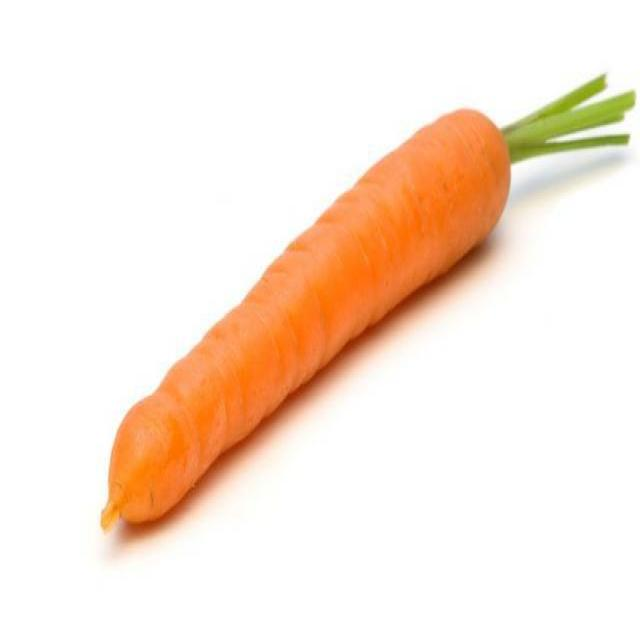Carrot: (113, 76, 638, 533)
